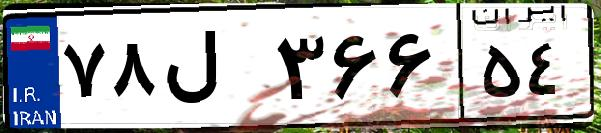3: (270, 28, 330, 110)
4: (525, 38, 570, 115)
5: (475, 38, 525, 113)
6: (385, 28, 445, 110), (330, 28, 385, 110)
7: (57, 26, 110, 100)
8: (110, 28, 158, 98)
ل: (158, 20, 270, 120)
